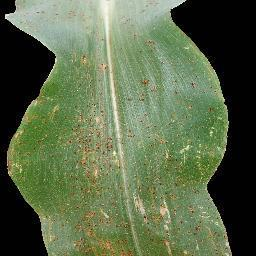Corn_Common_Rust: (6, 52, 115, 256), (114, 126, 234, 256), (1, 0, 101, 31), (197, 47, 230, 126), (125, 76, 196, 107), (167, 108, 192, 124), (117, 7, 136, 28), (137, 0, 160, 16), (130, 112, 154, 126), (127, 30, 142, 41), (144, 36, 158, 47)
